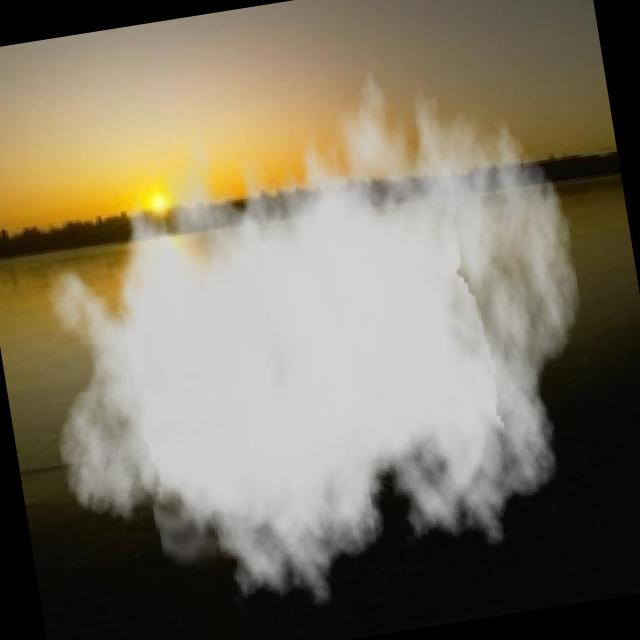Smoke: (2, 19, 625, 640)
